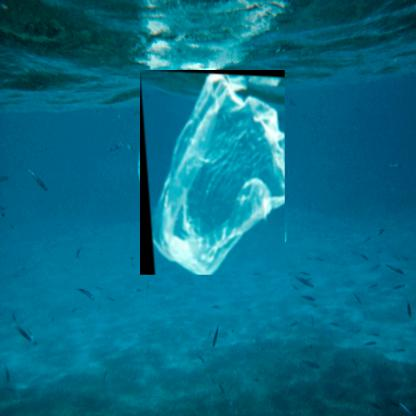plastic-bag: (140, 70, 286, 276)
